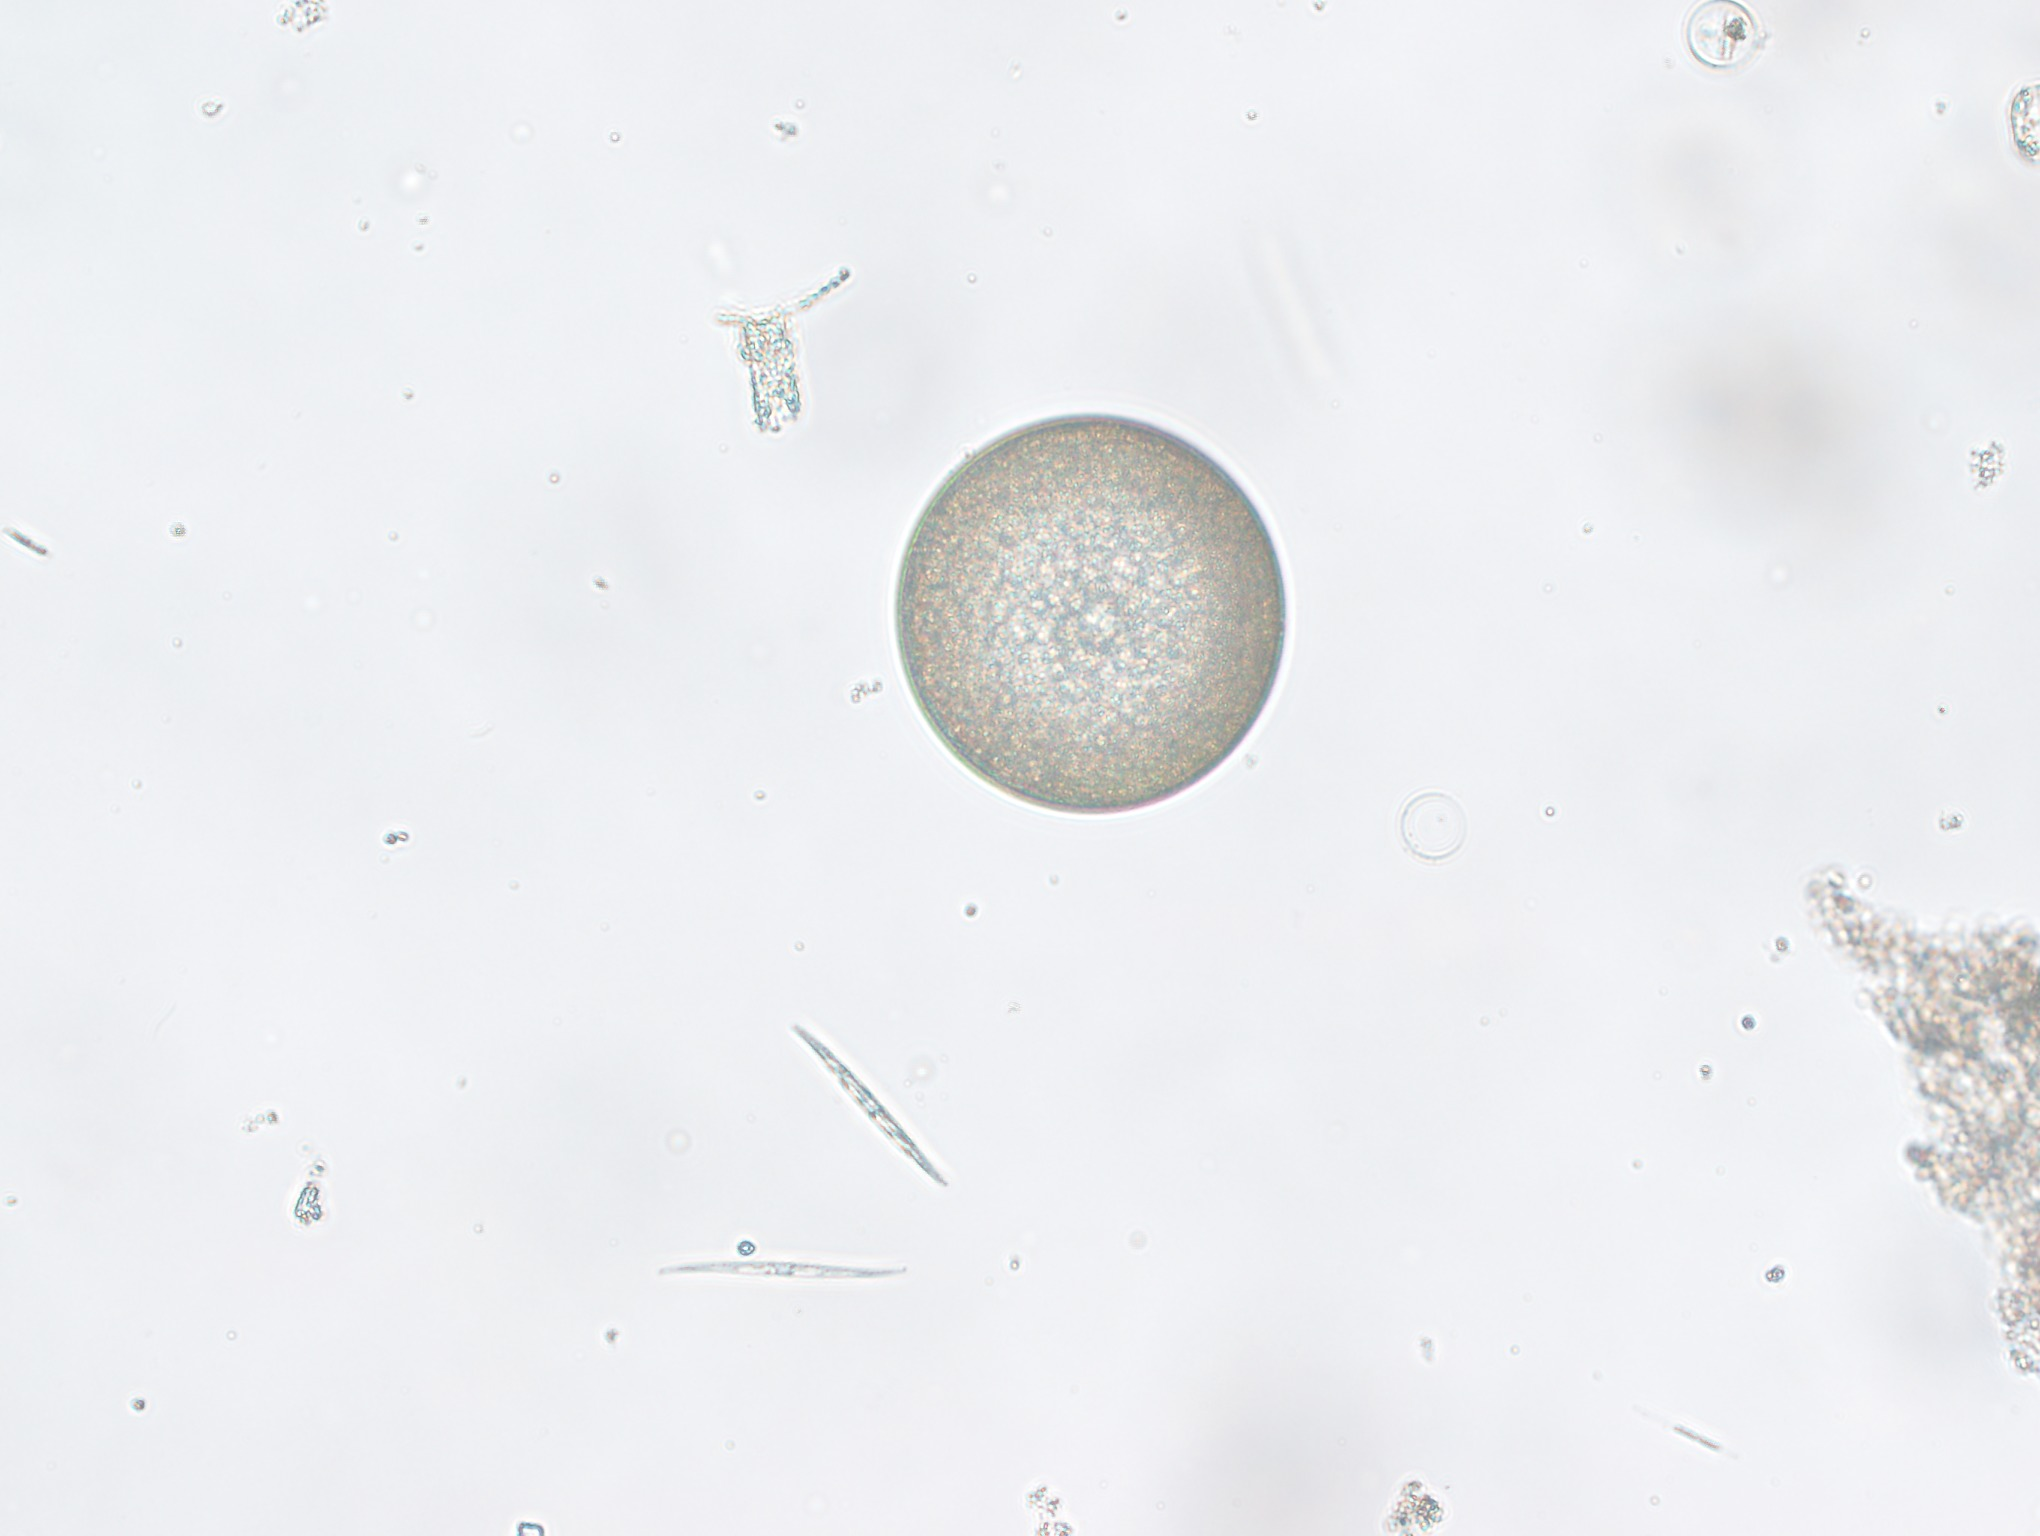coscinodiscus: (860, 411, 1300, 823)
pleurosigma pelagicum: (781, 1013, 969, 1212), (652, 1254, 908, 1296)
